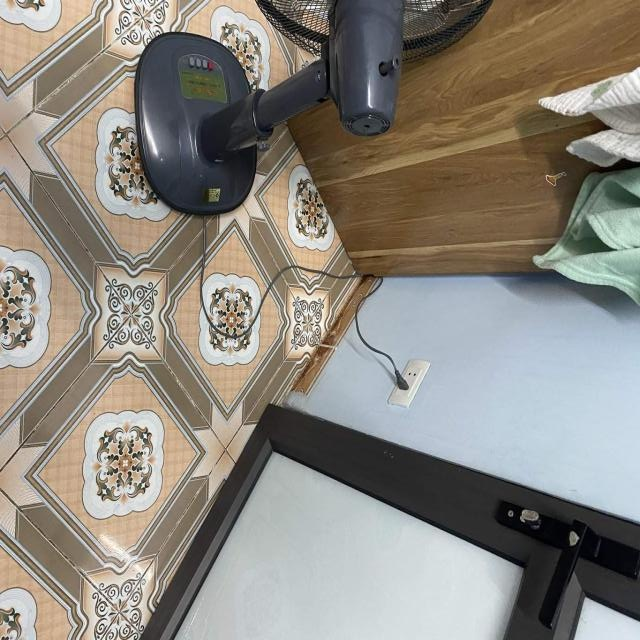outlet: (388, 358, 431, 408)
